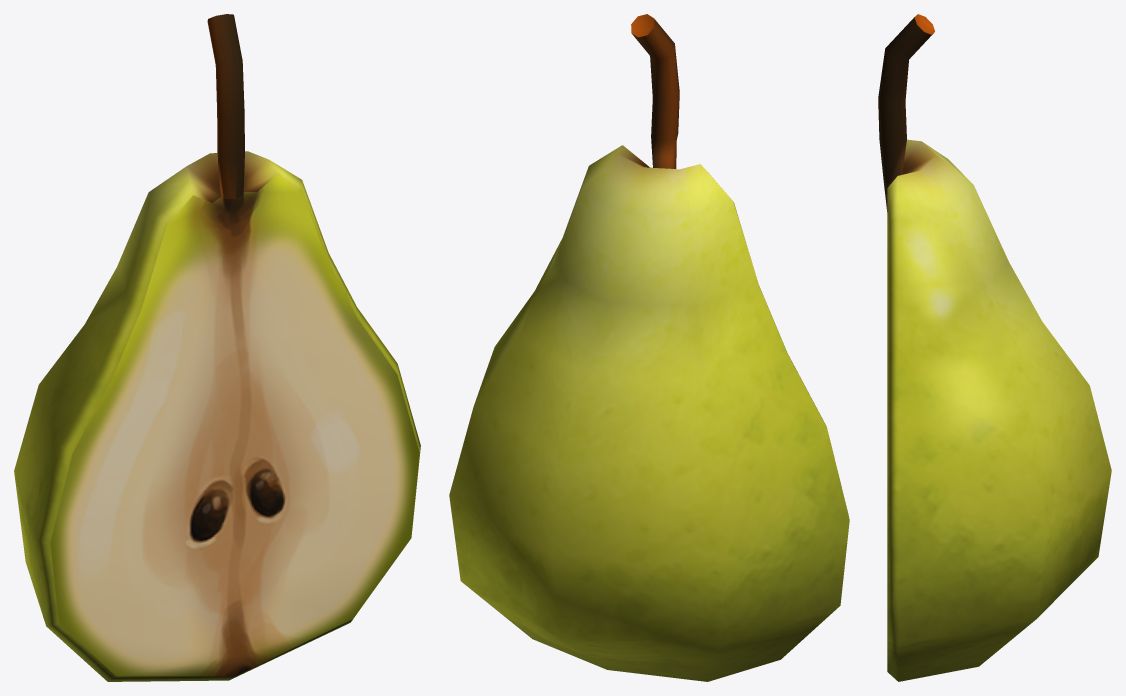
File: Pear_Half.fbx
The picture shows the model from 3 angles, left to right: view 1: azimuth 30°, elevation 25°; view 2: azimuth 150°, elevation 25°; view 3: azimuth 270°, elevation 25°; orthographic projection. The views are drawn at different scales.
Parts seen in each view (by area): view 1: Pear_Half; view 2: Pear_Half; view 3: Pear_Half.
Part boxes in pixels (box(x1,y1,x2,y2)): Pear_Half: box(14, 14, 420, 681); Pear_Half: box(449, 14, 849, 681); Pear_Half: box(878, 14, 1111, 681).
Bounding box in the file's own units: 26.45 × 43.37 × 14.4.
